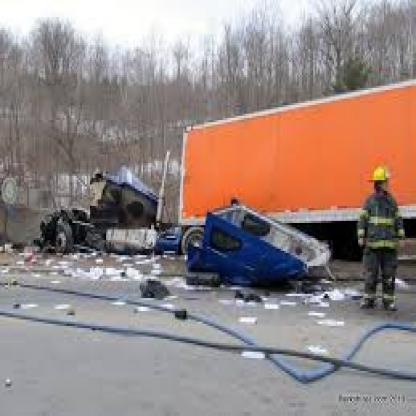accident: (34, 126, 393, 328)
